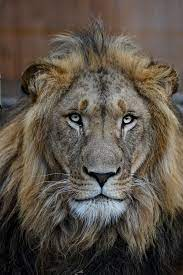lion: (19, 38, 159, 247)
